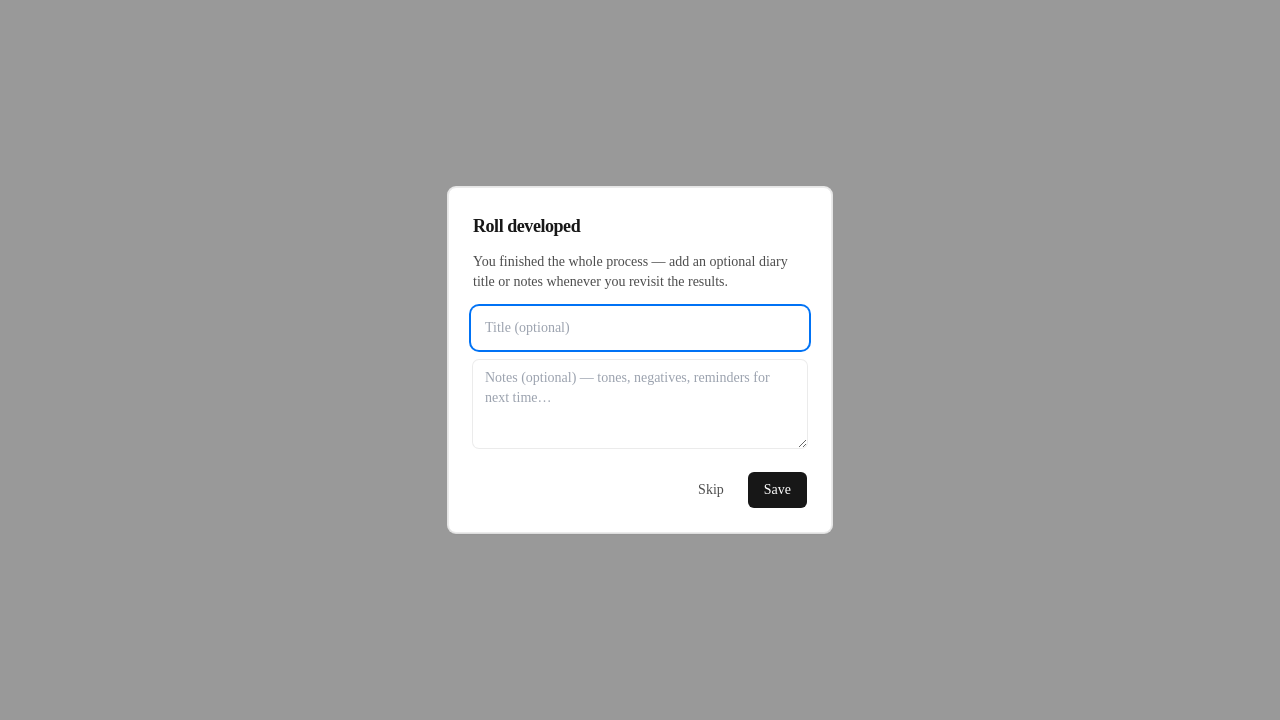
Scenario: DiaryCompletionDialog › keeps entered notes visible when saving fails
The width and height of the screenshot is (1280, 720).
Type "Night roll" into the field named "Diary title (optional)" at (640, 328), box x1=473 y1=308 x2=807 y2=348
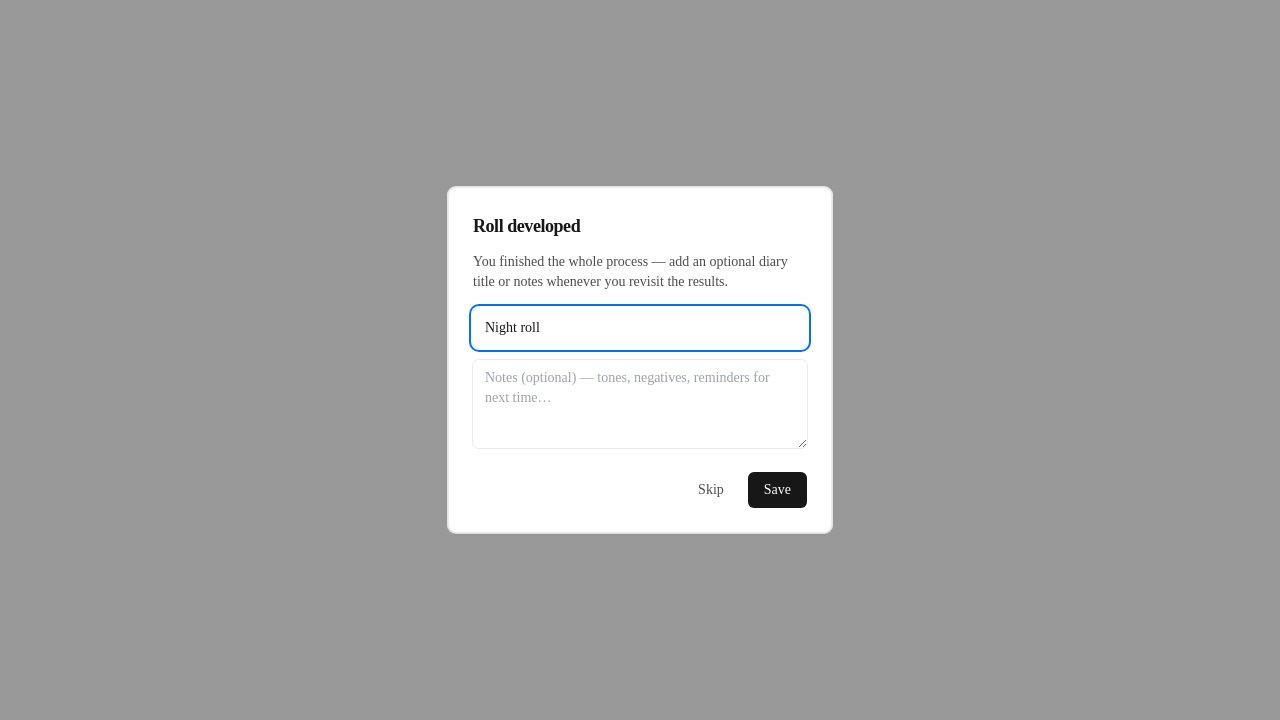
Replace the text in the text box named "Diary notes (optional)" with "Dense but printable" at (640, 404), box x1=473 y1=360 x2=807 y2=448
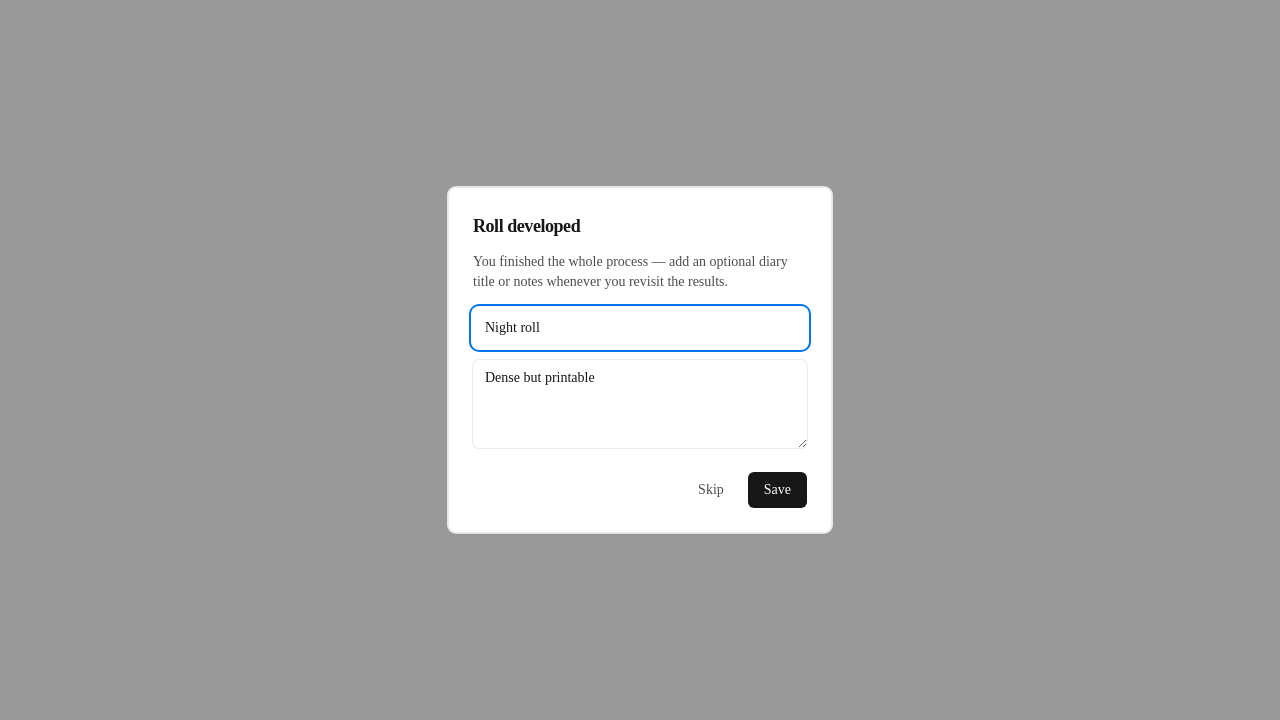
Click the button "Save" at (777, 490), box x1=748 y1=472 x2=807 y2=508
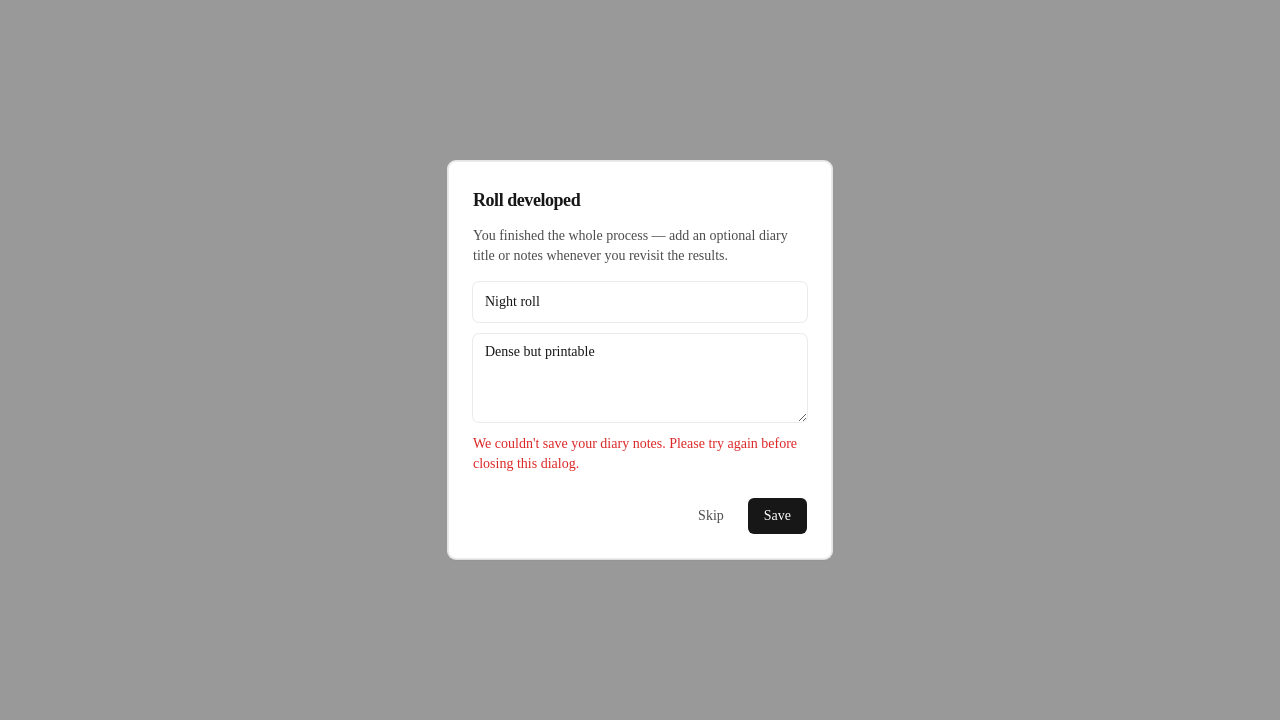
Result: the message shows "couldn't save your diary notes" at x1=473 y1=436 x2=797 y2=471
